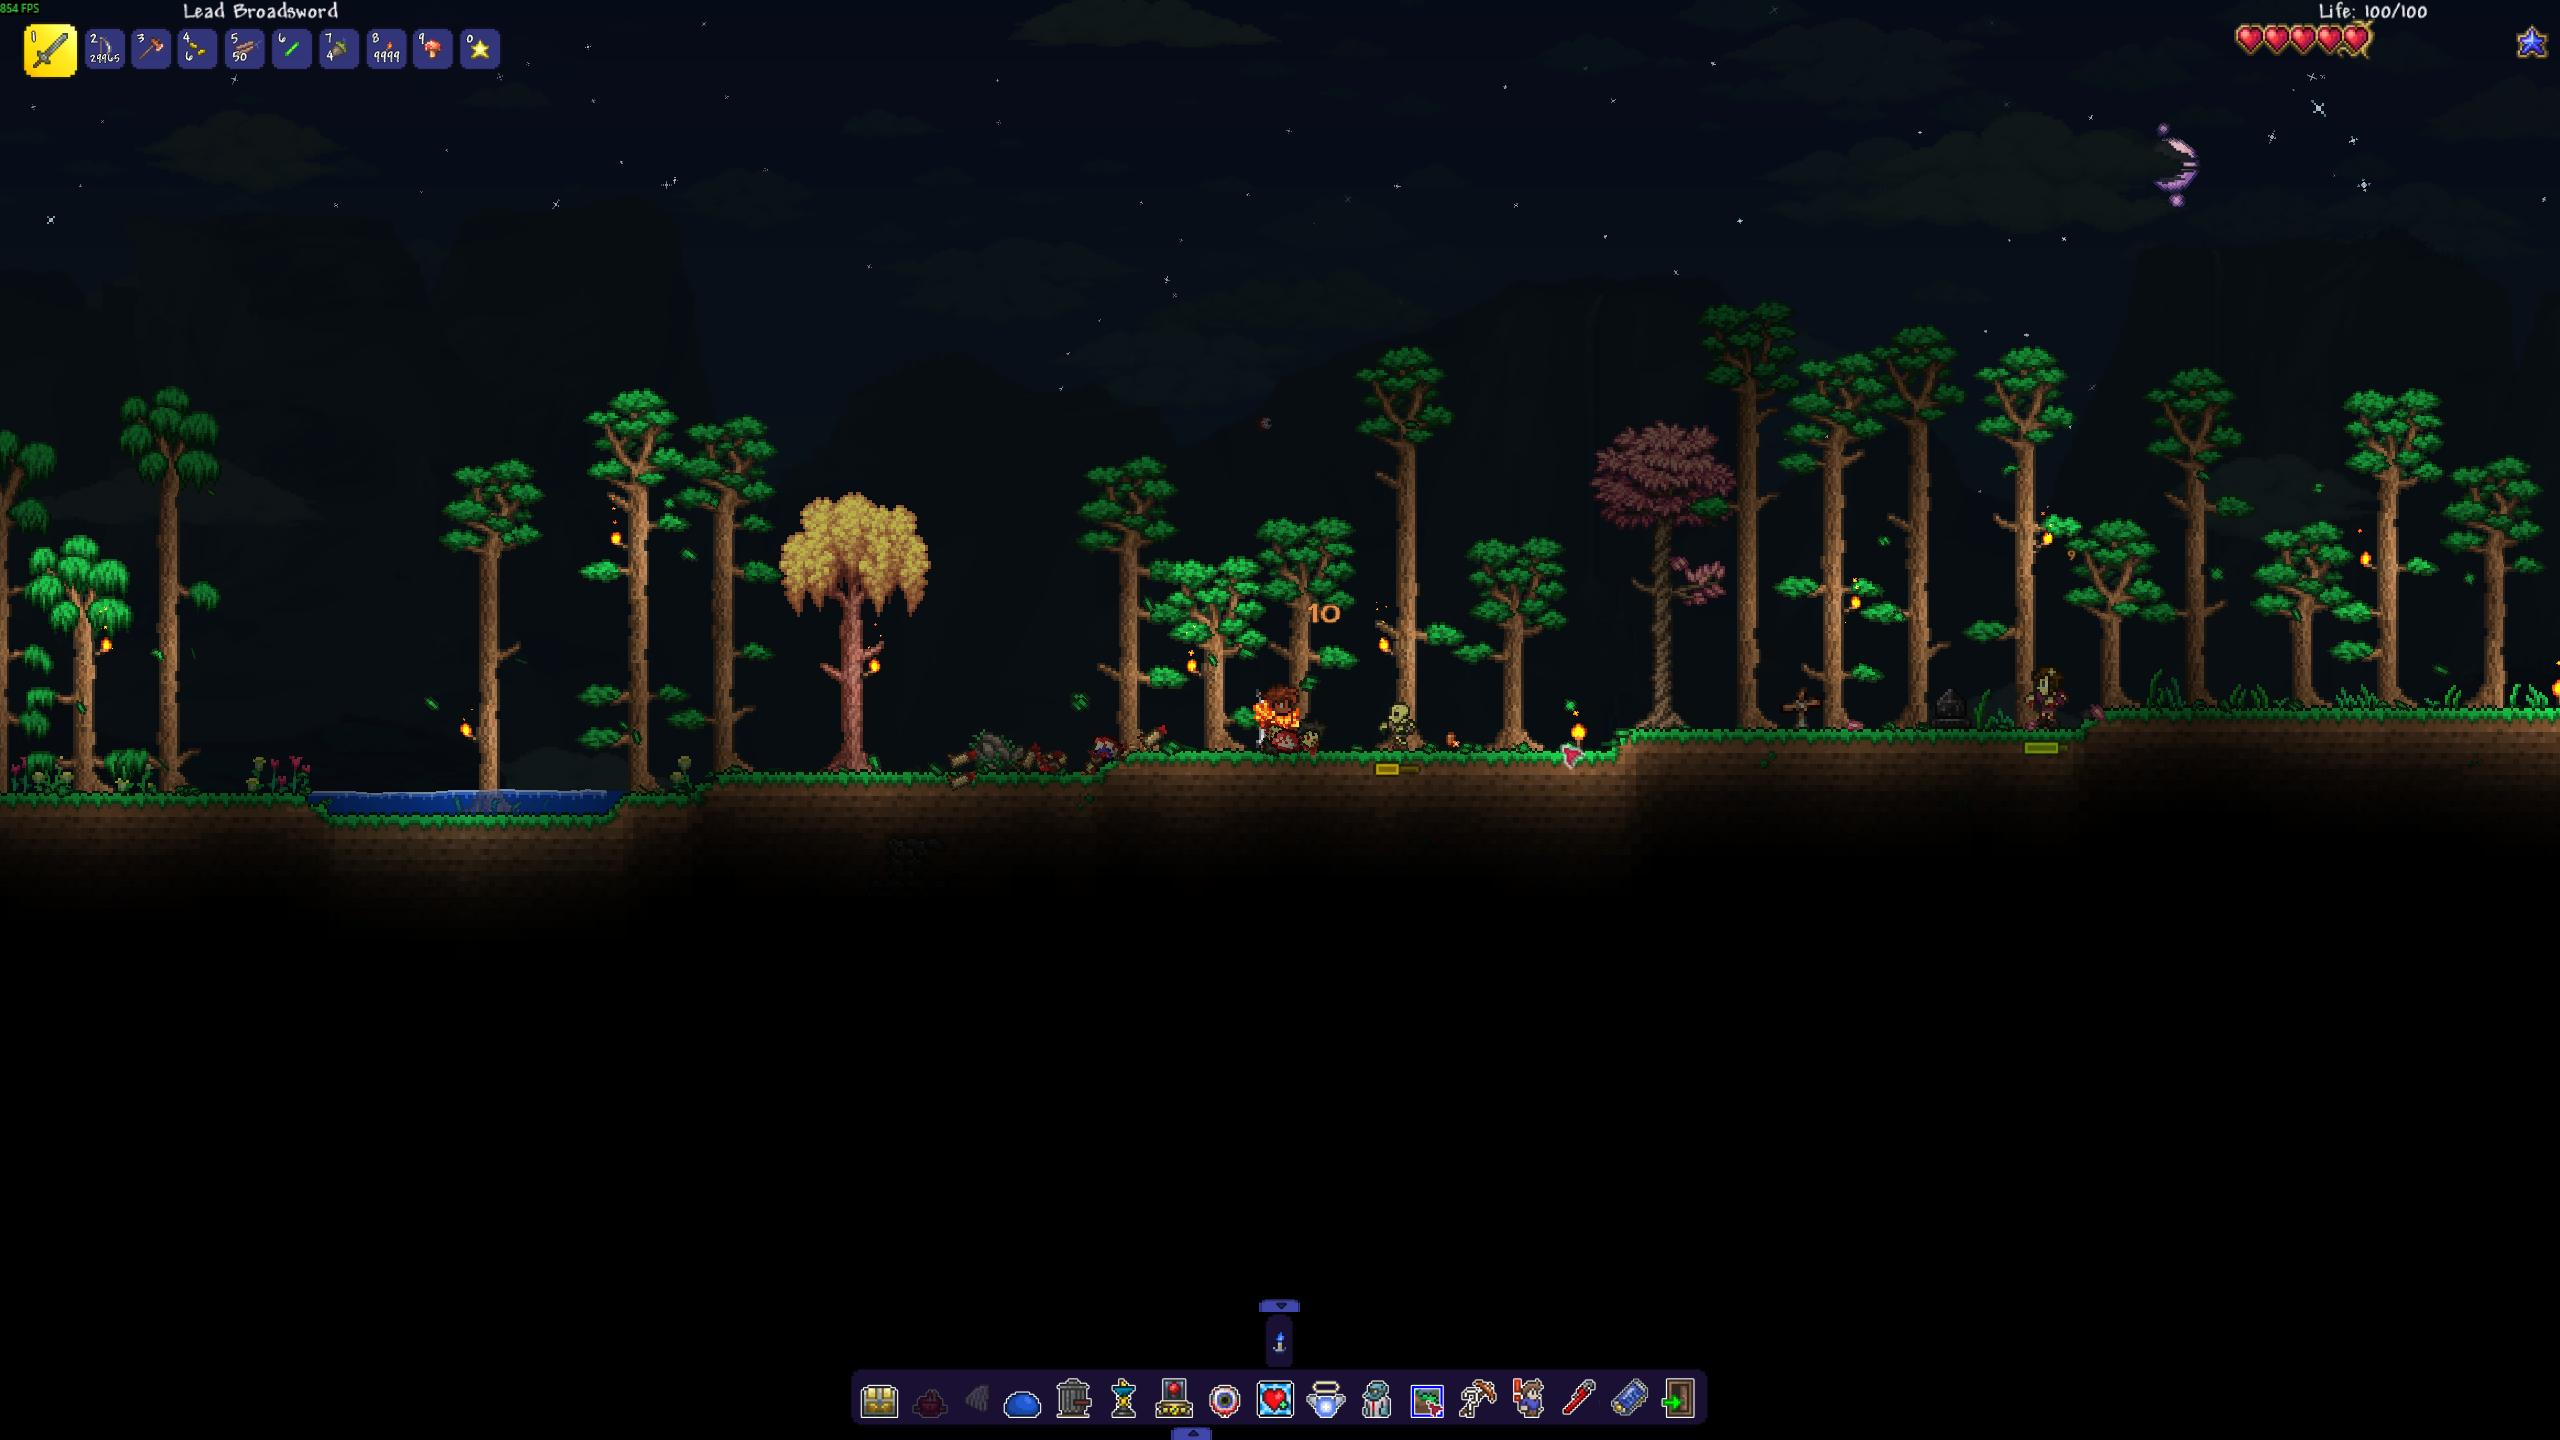Zombie: (2020, 659, 2068, 730), (1373, 695, 1426, 753)
